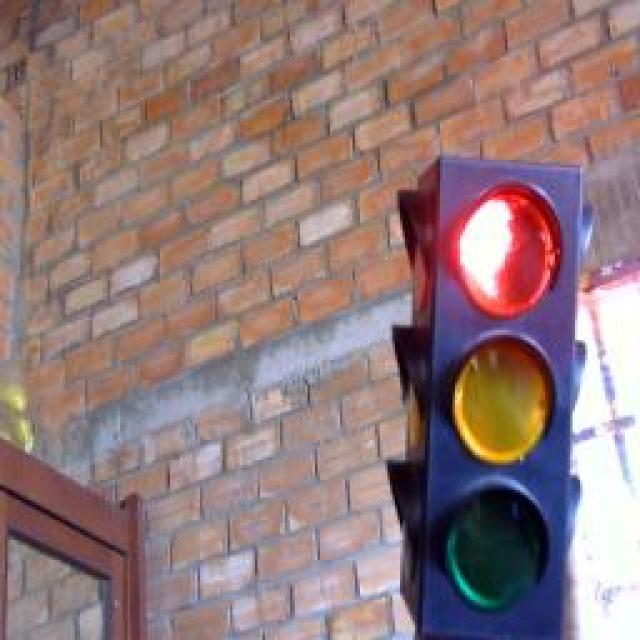-: (452, 171, 570, 323)
